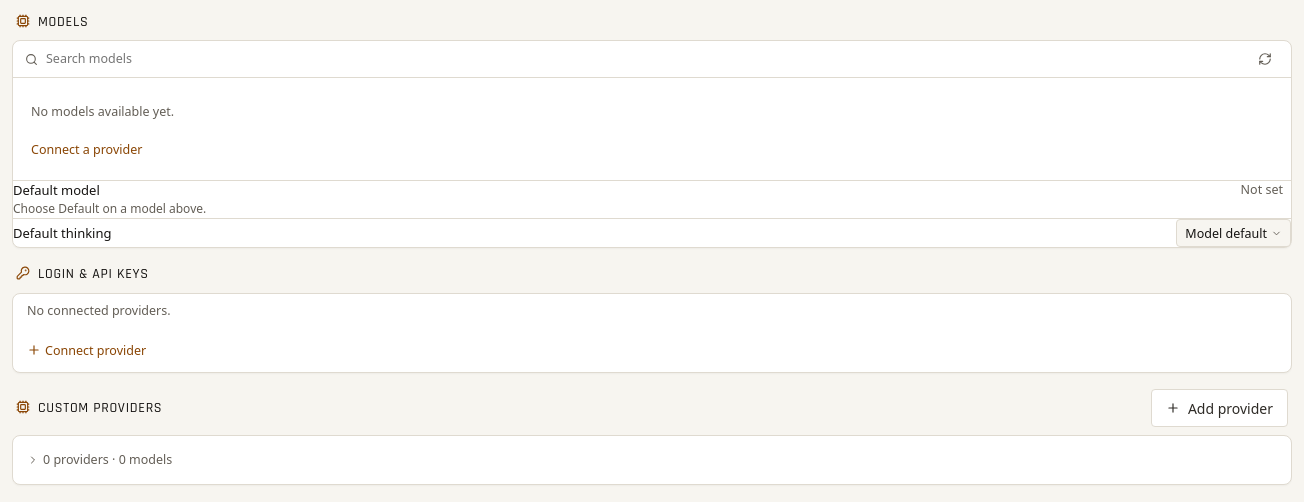
Test: Models settings configuration and ownership › can start provider creation from an empty catalog and cancel without writing
The width and height of the screenshot is (1304, 502).
Expected: the text "No models available yet." is shown, [31,103,174,120]
Click the button "Add provider" at x=1219, y=408, box [1151,389,1288,427]
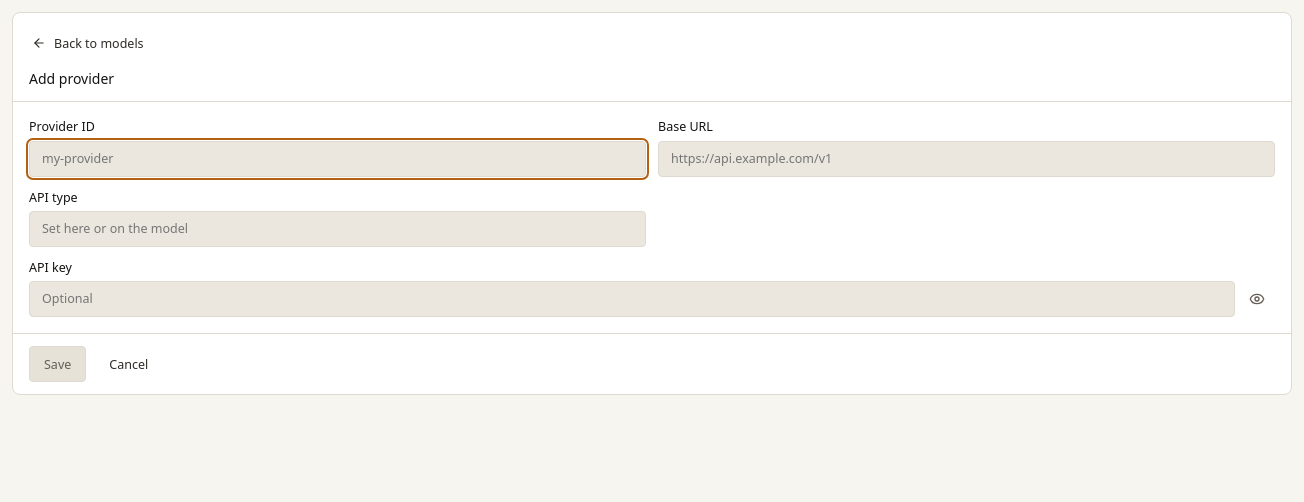
Now the element "Add provider" is shown
Type "unsaved-first-provider" into the field labelled "Provider ID" at x=338, y=159, box [29,140,646,177]
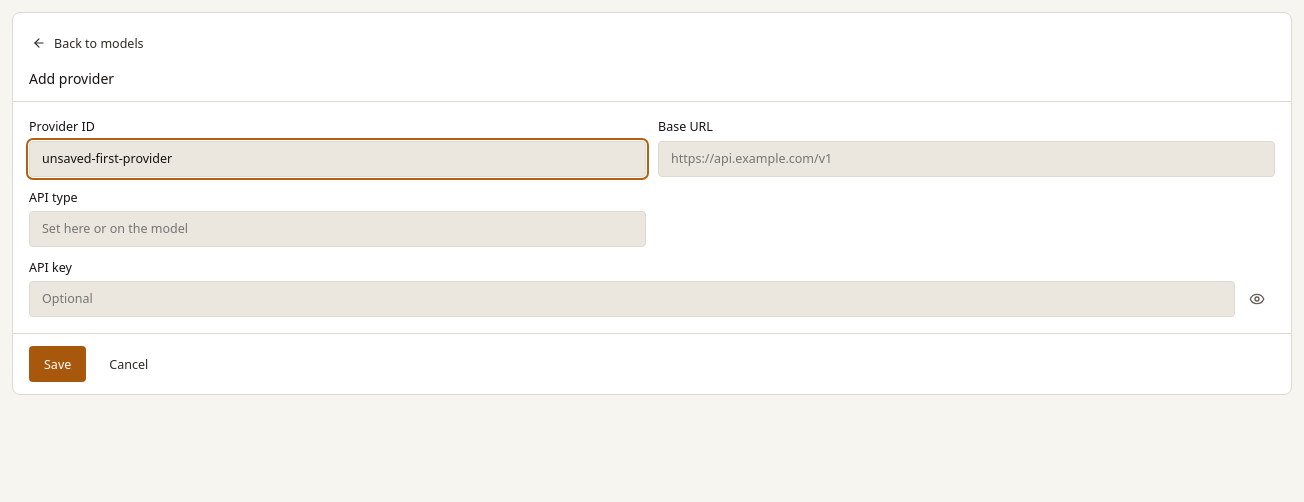
Click the button "Cancel" at x=129, y=364, box [94,346,163,382]
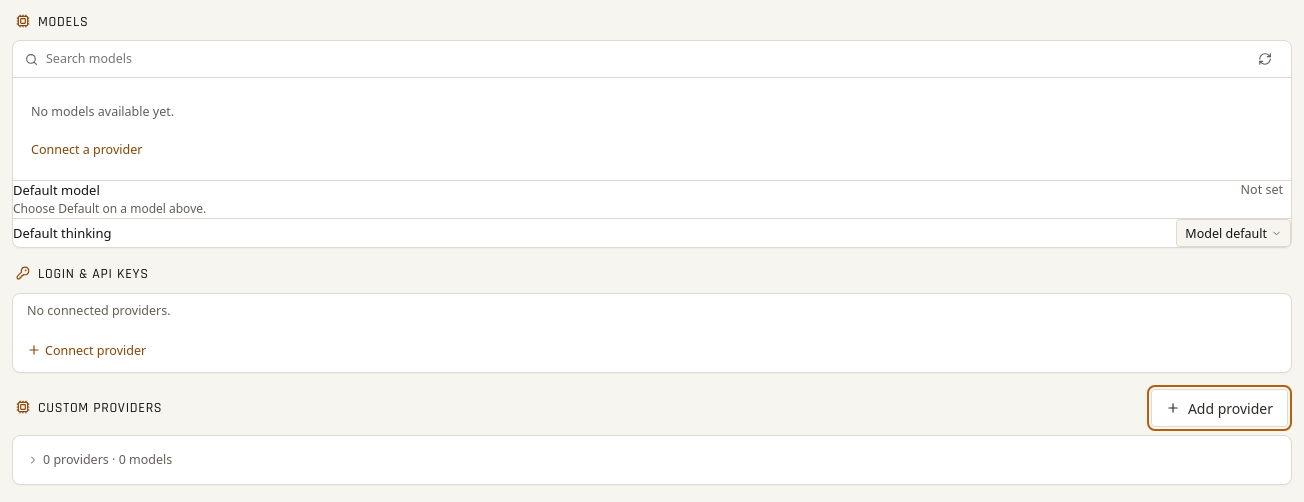
Now the text "No models available yet." is shown, box [31,103,174,120]
